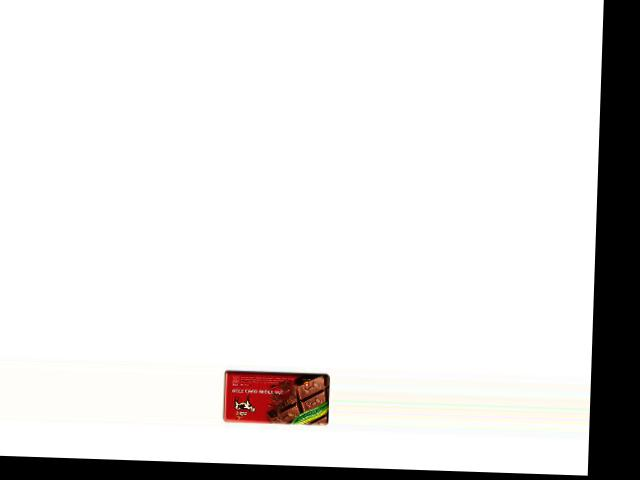chocolate: (220, 368, 330, 426)
